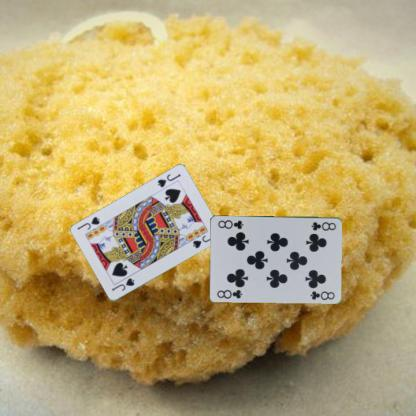8c: (214, 286, 244, 300), (309, 219, 338, 232)
Js: (155, 172, 182, 189), (108, 276, 136, 292)
